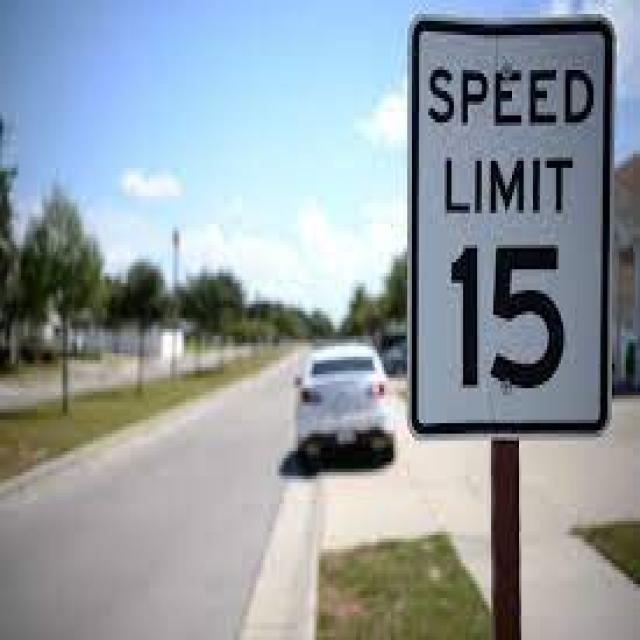speedLimit15: (410, 11, 612, 433)
